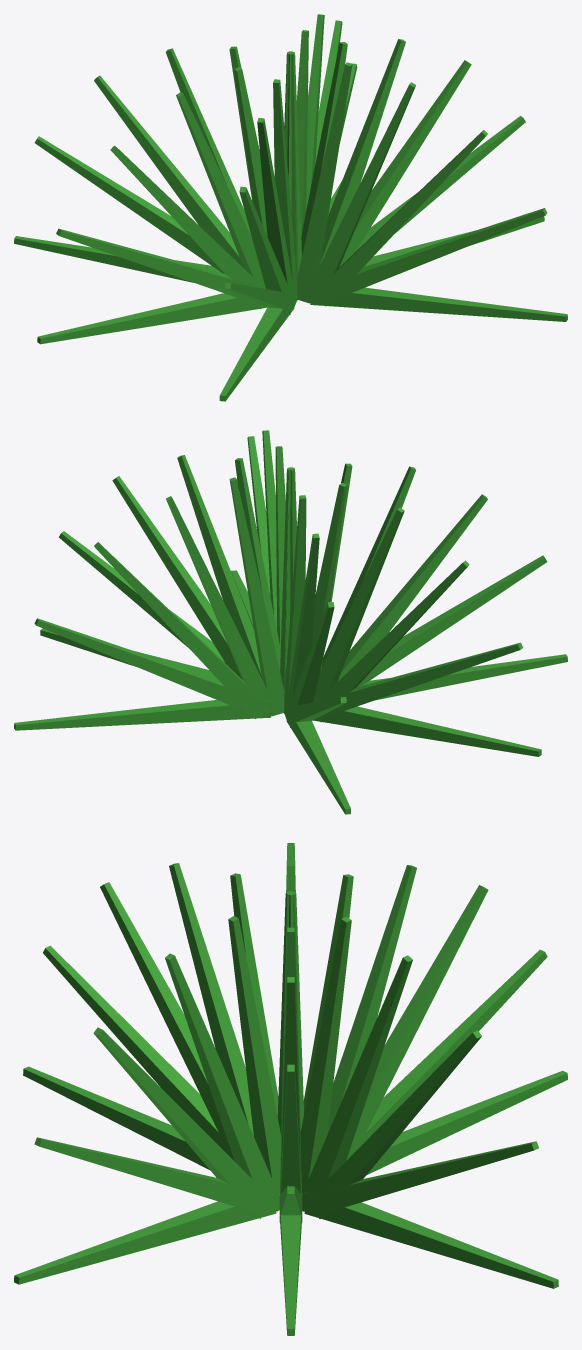
Rendered from grass.fbx.
3 views of the same model, one above another, from view 1: azimuth 30°, elevation 25°; view 2: azimuth 150°, elevation 25°; view 3: azimuth 270°, elevation 25° (orthographic). The views are drawn at different scales.
Parts seen in each view (by area): view 1: grass; view 2: grass; view 3: grass.
Boxes of the visible parts, box(x1,y1,x2,y2) form: grass: box(14, 14, 567, 401); grass: box(14, 430, 567, 814); grass: box(14, 843, 567, 1335).
Size of the model in its own units: 80.61 by 37.45 by 60.96.
